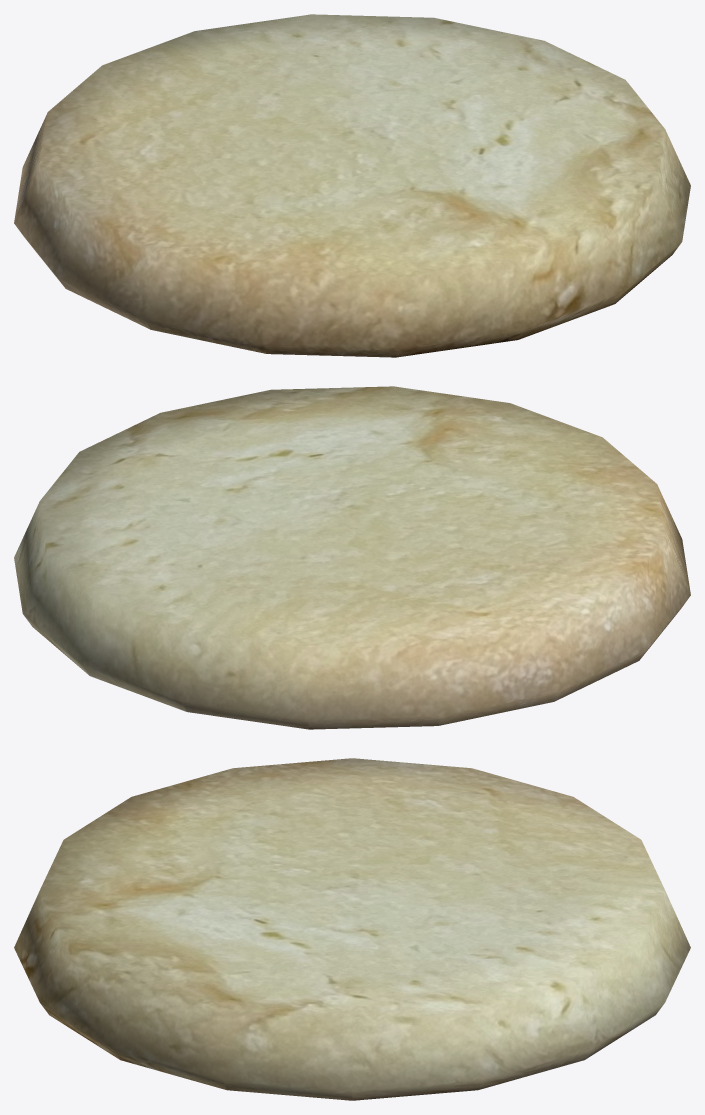
Rendered from Cookie01.fbx.
3 views of the same model, one above another, from view 1: azimuth 30°, elevation 25°; view 2: azimuth 150°, elevation 25°; view 3: azimuth 270°, elevation 25° (orthographic).
Visible parts, largest first — view 1: Empty_Mesh; view 2: Empty_Mesh; view 3: Empty_Mesh.
Boxes of the visible parts, left/top/right/bottom form: Empty_Mesh: left=14, top=14, right=690, bottom=357; Empty_Mesh: left=14, top=386, right=690, bottom=729; Empty_Mesh: left=14, top=758, right=690, bottom=1100.
Bounding box in the file's own units: 10 × 1.39 × 10.
